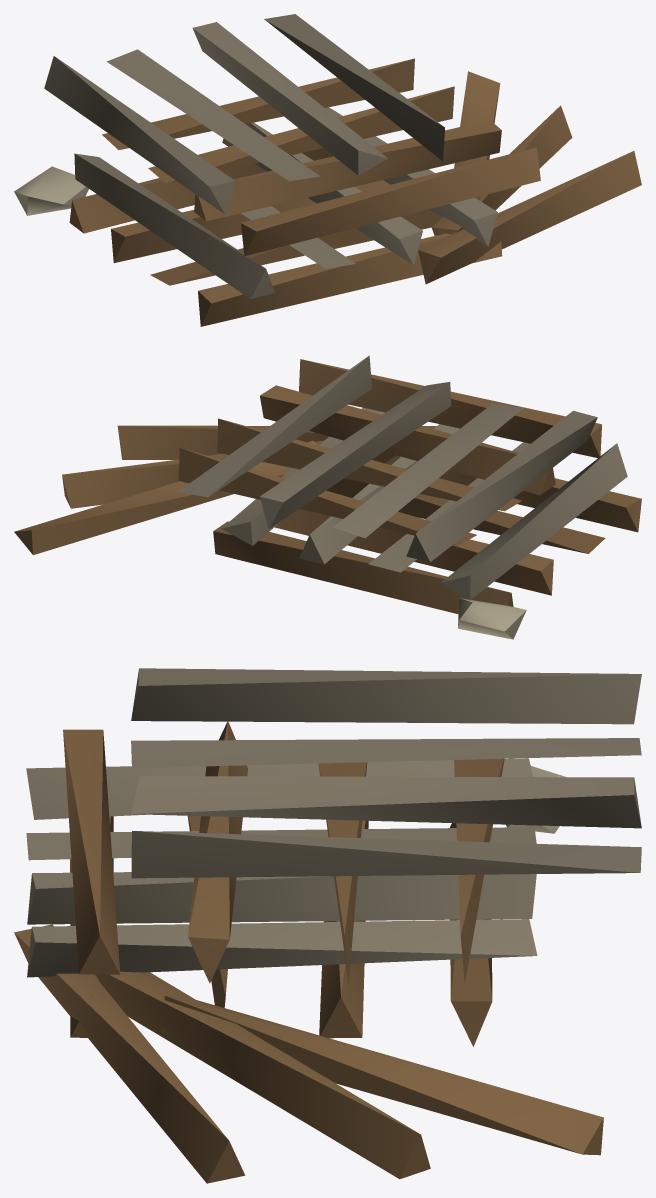
File: lagging_stack_b_lod2.glb
The picture shows the model from 3 angles, top to bottom: view 1: azimuth 30°, elevation 25°; view 2: azimuth 150°, elevation 25°; view 3: azimuth 270°, elevation 25°; orthographic projection. The views are drawn at different scales.
Visible parts, largest first — view 1: Surface.001; view 2: Surface.001; view 3: Surface.001.
Boxes of the visible parts, x1=… form: Surface.001: x1=14, y1=14, x2=641, y2=326; Surface.001: x1=14, y1=355, x2=641, y2=639; Surface.001: x1=14, y1=668, x2=641, y2=1183.
Bounding box in the file's own units: 3.44 × 0.8417 × 2.48.
